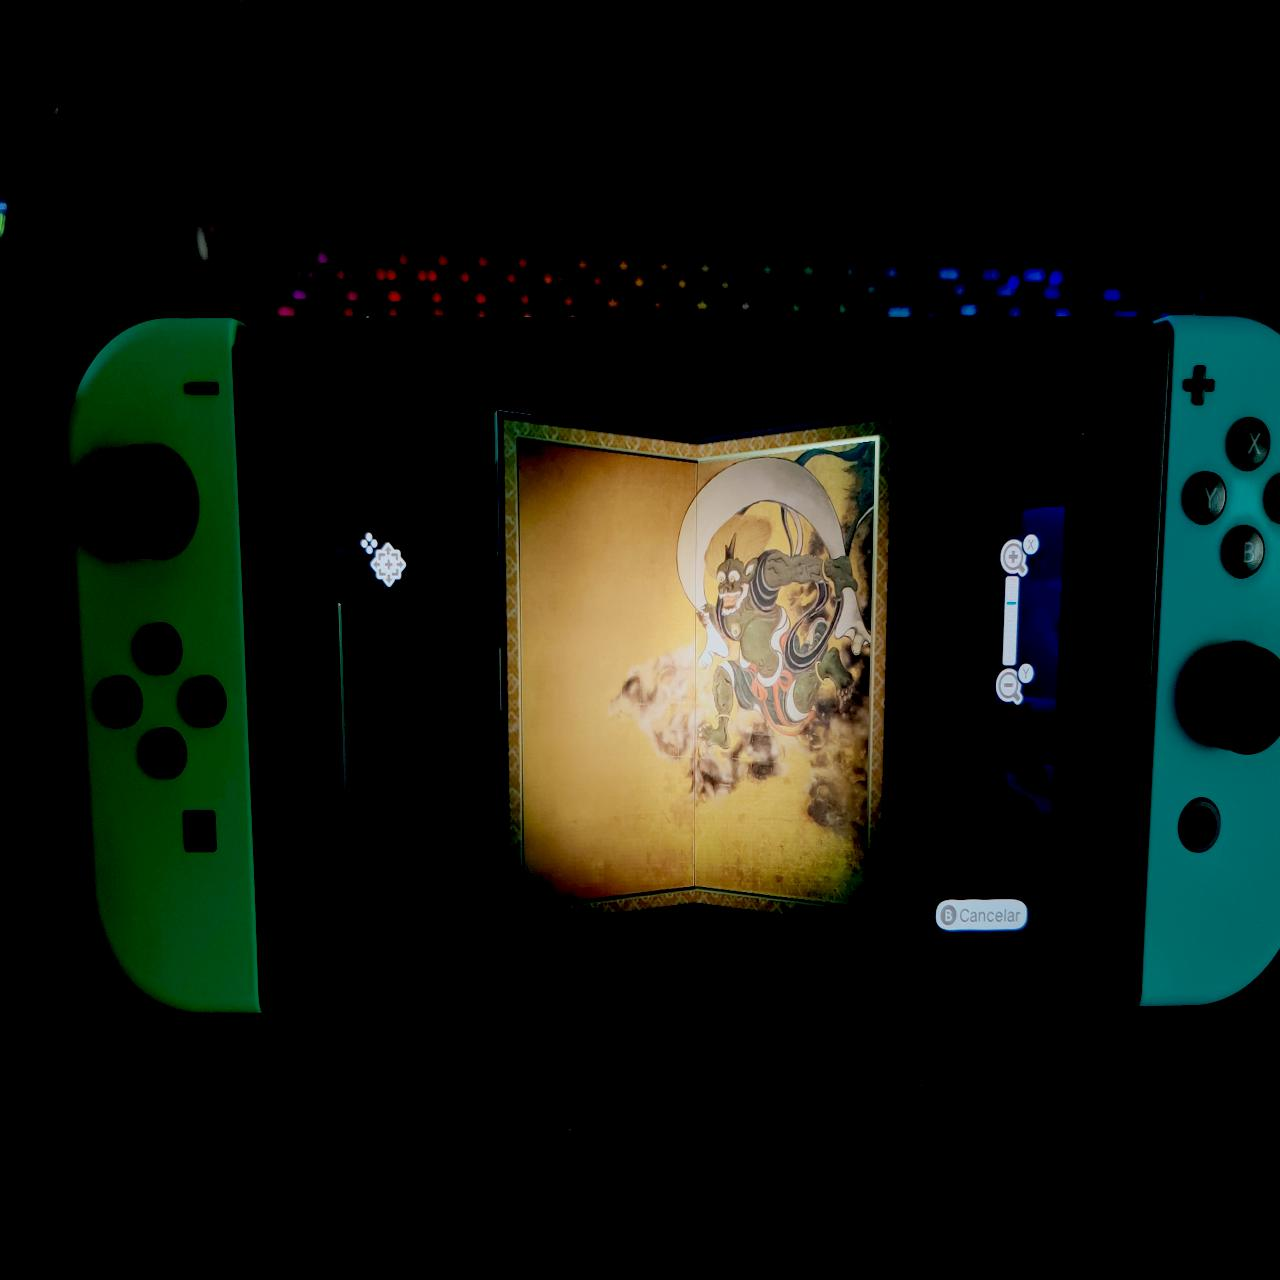Fuujin: (495, 408, 892, 937)
